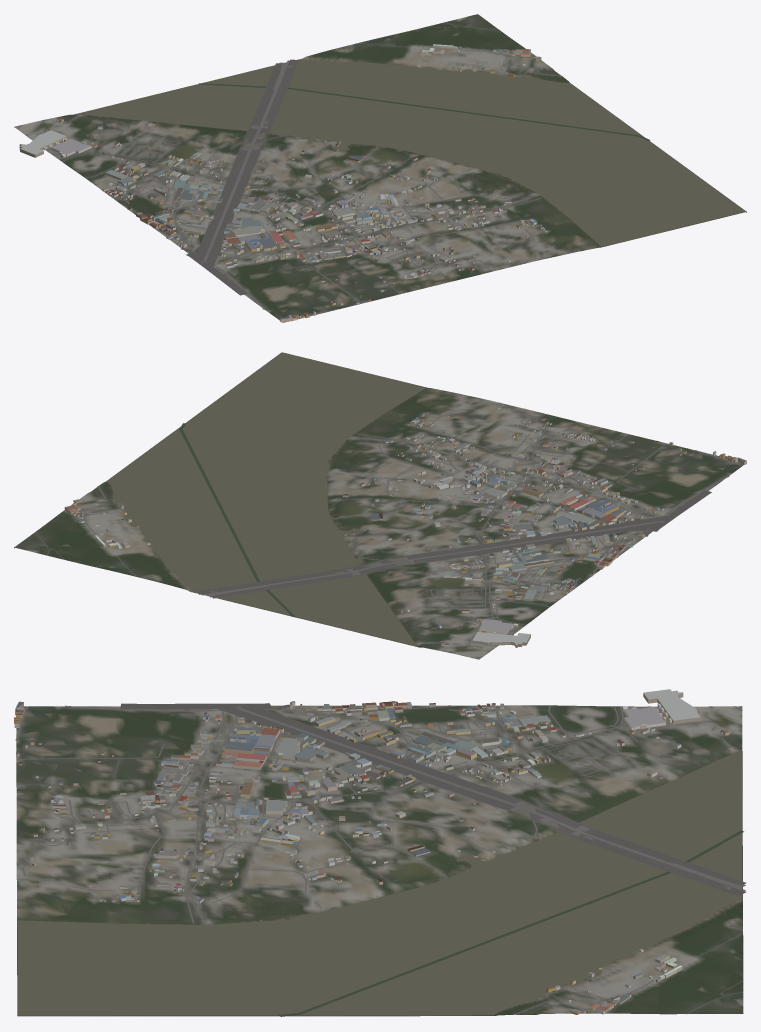
3 renders of one model, top to bottom at view 1: azimuth 30°, elevation 25°; view 2: azimuth 150°, elevation 25°; view 3: azimuth 270°, elevation 25°, orthographic. The views are drawn at different scales.
Visible parts, largest first — view 1: ground, water, buildings, roads; view 2: ground, water, buildings, roads; view 3: ground, water, buildings, roads.
Part boxes in pixels (x1,y1,x2,y2): ground: (14, 14, 746, 322); water: (76, 59, 745, 246); buildings: (19, 44, 547, 322); roads: (15, 22, 562, 319); ground: (14, 353, 743, 659); water: (93, 352, 426, 646); buildings: (64, 407, 746, 647); roads: (35, 402, 742, 659); ground: (16, 705, 743, 1016); water: (17, 750, 743, 1016); buildings: (14, 689, 730, 1014); roads: (15, 703, 746, 1014).
Size of the model in its own units: 1469 by 22.39 by 1415.
